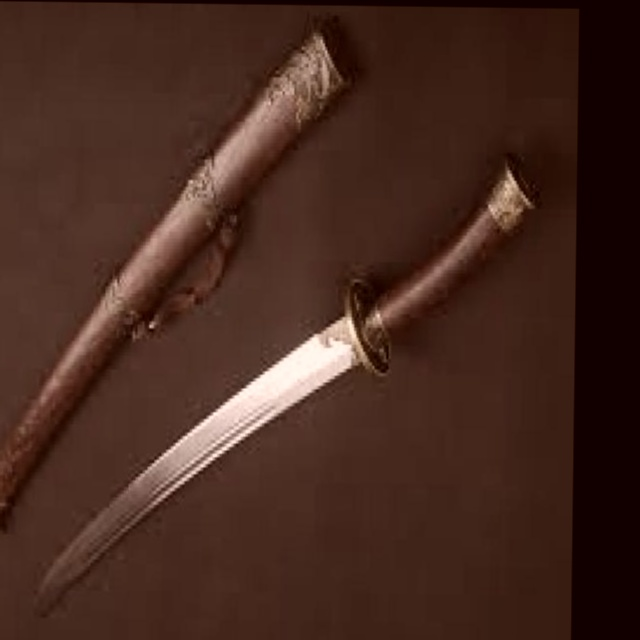Sharp-Object: (31, 163, 534, 629)
